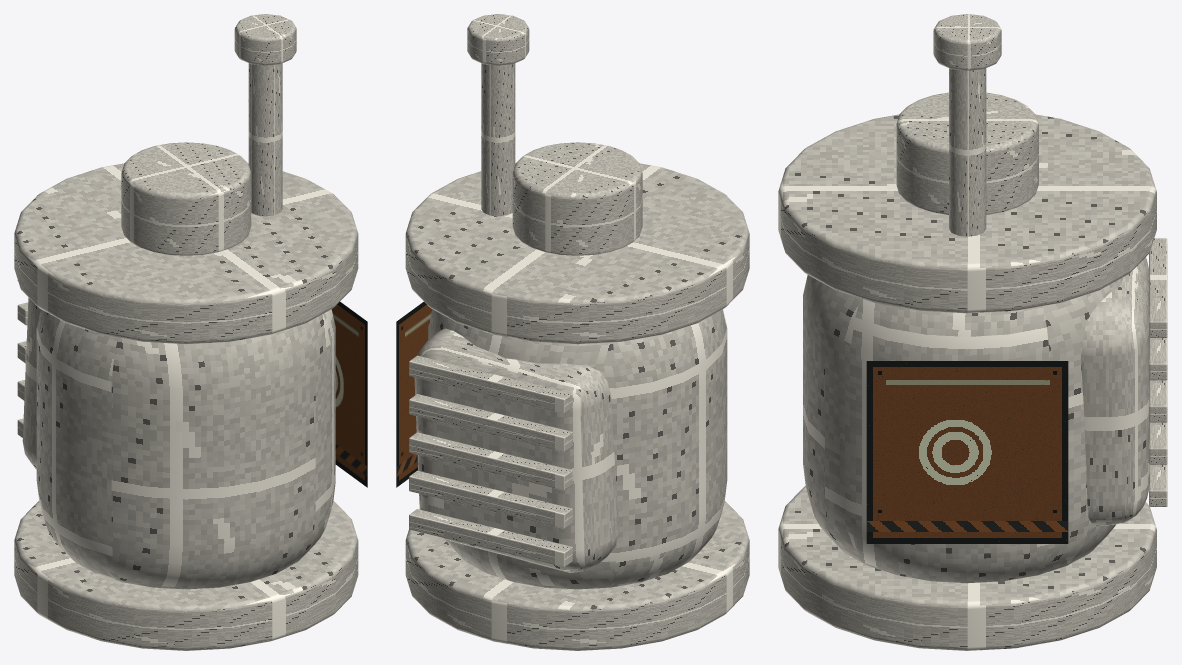
Rendered from decoy.glb.
3 views of the same model, side by side, from view 1: azimuth 30°, elevation 25°; view 2: azimuth 150°, elevation 25°; view 3: azimuth 270°, elevation 25° (orthographic). The views are drawn at different scales.
Parts seen in each view (by area): view 1: Rounded beacon casing, Rubber bumper.001, Rubber bumper, Beacon lamp, Specification plate.003, Telescoping antenna, Antenna cap, Speaker housing; view 2: Rubber bumper.001, Rounded beacon casing, Rubber bumper, Speaker housing, Beacon lamp, Telescoping antenna, Speaker grille.002, Speaker grille.004, Speaker grille, Speaker grille.001, Speaker grille.003, Specification plate.003 (+1 smaller); view 3: Rubber bumper.001, Rounded beacon casing, Specification plate.003, Rubber bumper, Speaker housing, Beacon lamp, Telescoping antenna, Antenna cap, Speaker grille.004, Speaker grille, Speaker grille.003, Speaker grille.001 (+1 smaller).
Boxes of the visible parts, x1=… form: Rounded beacon casing: x1=36, y1=309, x2=335, y2=589; Rubber bumper.001: x1=14, y1=163, x2=358, y2=344; Rubber bumper: x1=14, y1=501, x2=358, y2=650; Beacon lamp: x1=121, y1=142, x2=251, y2=255; Specification plate.003: x1=331, y1=302, x2=367, y2=487; Telescoping antenna: x1=248, y1=63, x2=282, y2=216; Antenna cap: x1=234, y1=14, x2=296, y2=65; Speaker housing: x1=22, y1=297, x2=40, y2=469; Rubber bumper.001: x1=405, y1=163, x2=749, y2=344; Rounded beacon casing: x1=428, y1=309, x2=727, y2=589; Rubber bumper: x1=405, y1=501, x2=749, y2=650; Speaker housing: x1=414, y1=328, x2=619, y2=572; Beacon lamp: x1=512, y1=142, x2=642, y2=255; Telescoping antenna: x1=481, y1=63, x2=515, y2=216; Speaker grille.002: x1=409, y1=432, x2=572, y2=490; Speaker grille.004: x1=409, y1=355, x2=572, y2=413; Speaker grille: x1=409, y1=509, x2=572, y2=567; Speaker grille.001: x1=409, y1=470, x2=572, y2=528; Speaker grille.003: x1=409, y1=394, x2=572, y2=452; Specification plate.003: x1=396, y1=302, x2=432, y2=487; Rubber bumper.001: x1=778, y1=114, x2=1156, y2=313; Rounded beacon casing: x1=803, y1=275, x2=1123, y2=583; Specification plate.003: x1=866, y1=361, x2=1068, y2=543; Rubber bumper: x1=778, y1=486, x2=1156, y2=650; Speaker housing: x1=1080, y1=257, x2=1149, y2=525; Beacon lamp: x1=896, y1=92, x2=1038, y2=214; Telescoping antenna: x1=949, y1=68, x2=986, y2=236; Antenna cap: x1=933, y1=14, x2=1001, y2=70; Speaker grille.004: x1=1149, y1=238, x2=1167, y2=337; Speaker grille: x1=1149, y1=464, x2=1167, y2=506; Speaker grille.003: x1=1149, y1=337, x2=1167, y2=380; Speaker grille.001: x1=1149, y1=422, x2=1167, y2=464.
Size of the model in its own units: 0.244 by 0.4185 by 0.251.
Materials: 6 (6 with a texture image).
